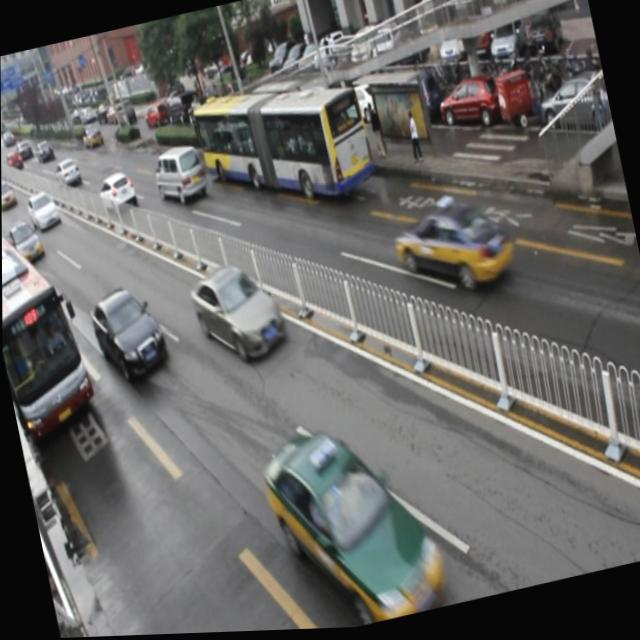car: (257, 415, 450, 633), (389, 190, 516, 304), (186, 258, 292, 375), (86, 284, 171, 386), (5, 215, 47, 266), (97, 170, 138, 213), (26, 190, 62, 235)
truck: (149, 141, 209, 209)
van: (188, 64, 378, 228), (1, 224, 99, 440)
